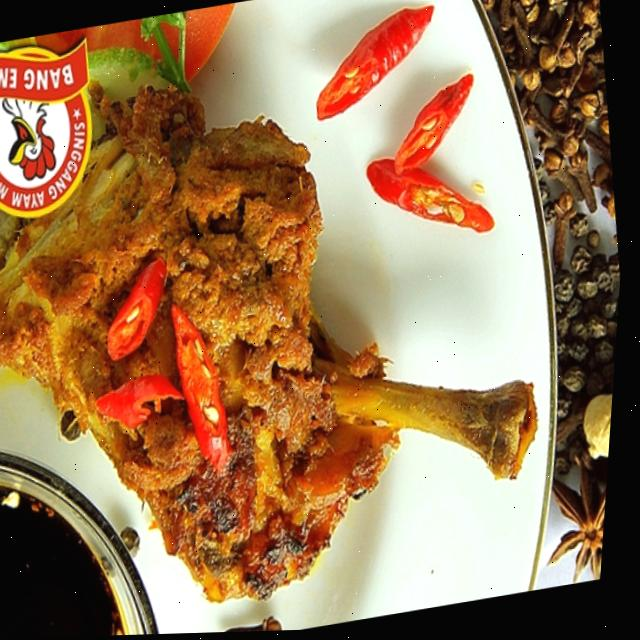鸡肉料理 含炸鸡: (0, 0, 597, 640)
